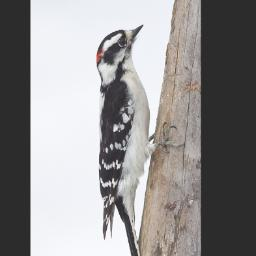Woodpecker: (94, 21, 185, 256)
